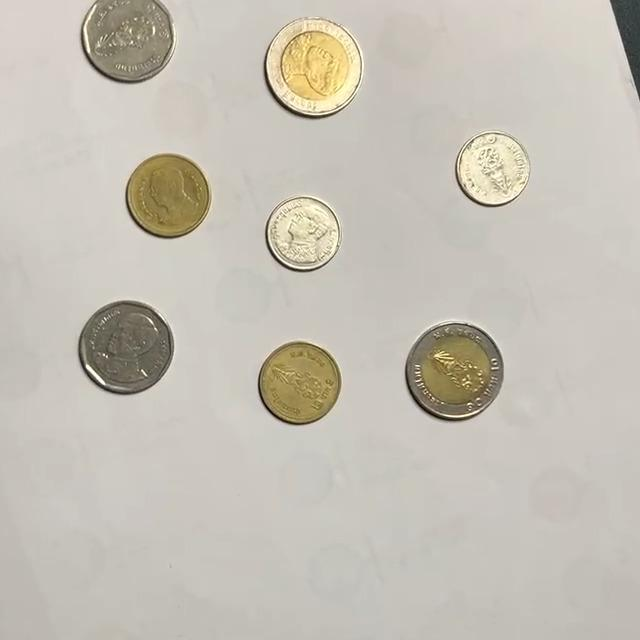1-baht: (264, 195, 341, 272), (455, 131, 533, 206)
10-baht: (264, 16, 363, 117), (405, 321, 505, 420)
2-baht: (125, 152, 211, 237), (258, 341, 343, 425)
5-baht: (79, 301, 176, 394), (80, 0, 178, 83)
